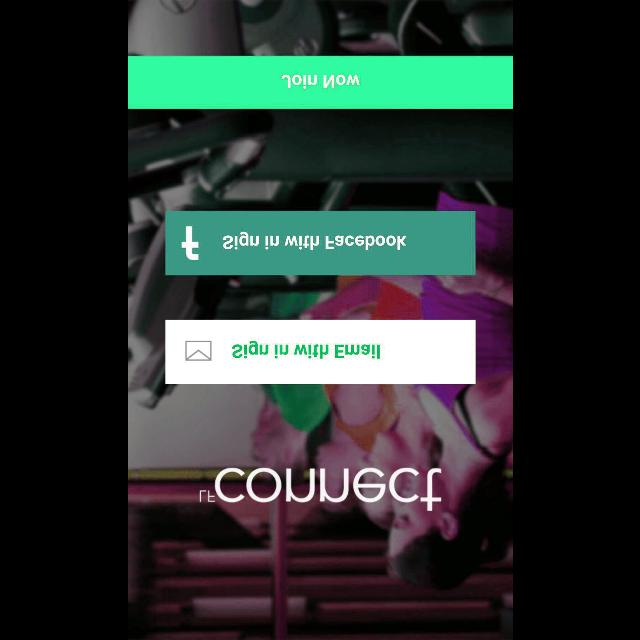backgroundimage: (128, 1, 512, 640)
image: (198, 465, 442, 511)
textbutton: (165, 210, 475, 276), (128, 56, 512, 108), (165, 320, 475, 384)
